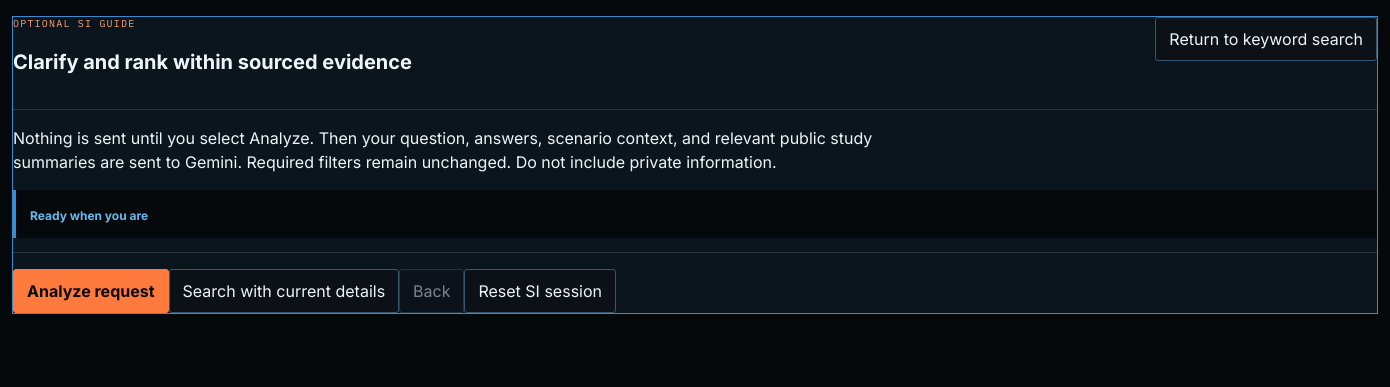
Test: unconfigured backend leaves keyword action available
Later steps or results of the test are not shown.
Click the button "Analyze request" at (91, 291), box [13, 269, 168, 313]
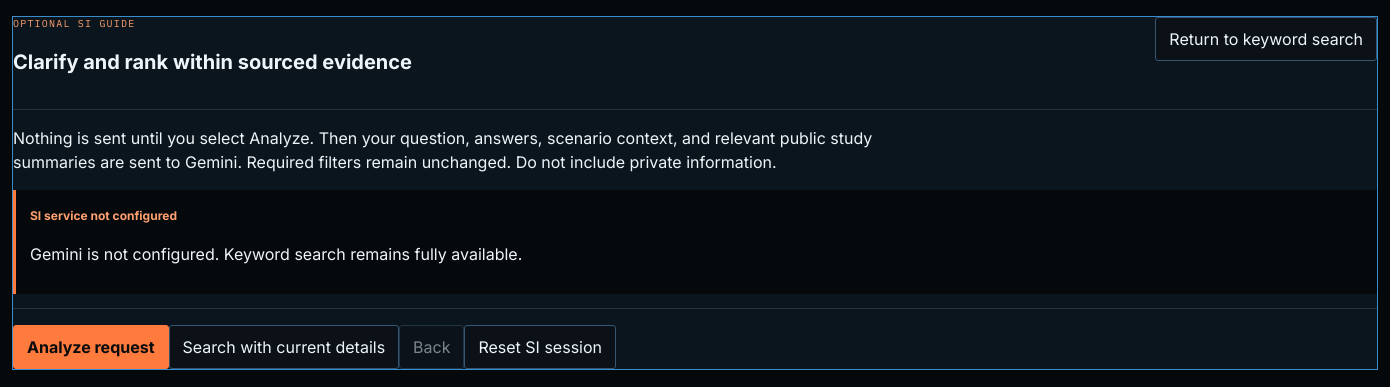
Expected: the button "Return to keyword search" is shown, [1155, 17, 1377, 61]
Expected: the text "Gemini is not configured" is shown, [30, 244, 522, 264]
